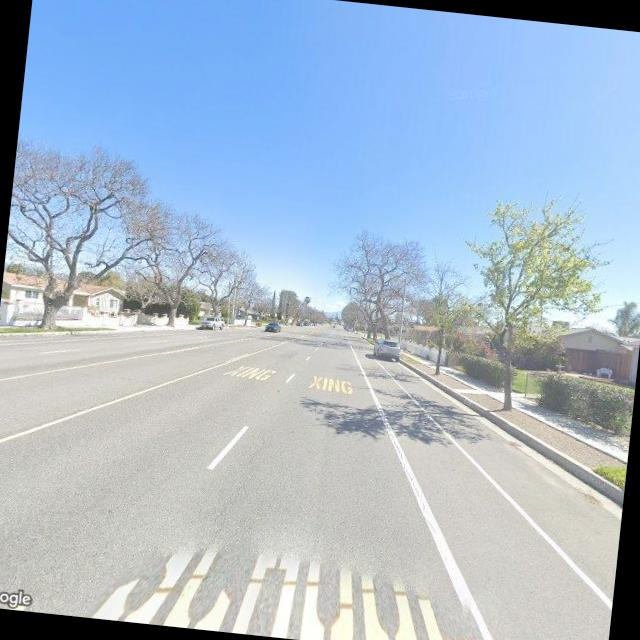crack: (362, 397, 449, 529)
